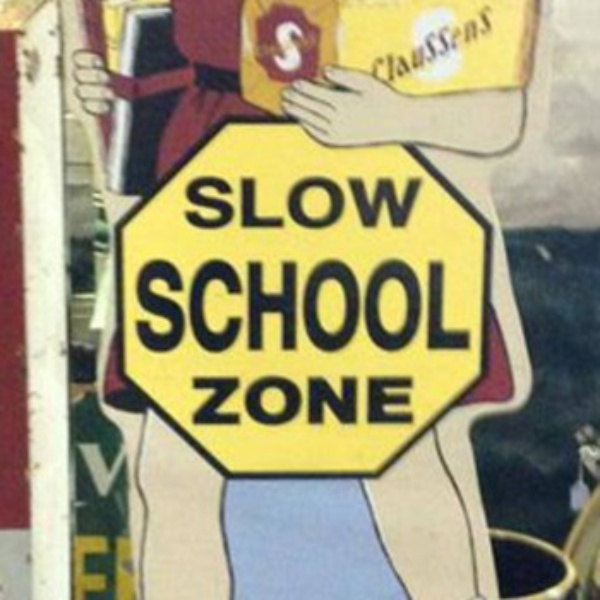text: (145, 256, 160, 352), (161, 256, 176, 352), (177, 256, 192, 352), (193, 256, 208, 352), (209, 256, 224, 352), (225, 256, 240, 352), (241, 256, 256, 352), (257, 256, 272, 352), (273, 256, 288, 352), (289, 256, 304, 352), (305, 256, 320, 352), (321, 256, 336, 352), (337, 256, 352, 352), (353, 256, 368, 352), (369, 256, 384, 352), (385, 256, 400, 352), (401, 256, 416, 352), (417, 256, 432, 352), (433, 256, 448, 352), (449, 256, 464, 352), (369, 7, 384, 95), (385, 7, 400, 95), (401, 7, 416, 95), (417, 7, 432, 95), (433, 7, 448, 95), (449, 7, 464, 95), (465, 7, 480, 95), (481, 7, 496, 95), (81, 530, 96, 599), (113, 436, 129, 499), (66, 530, 80, 599), (134, 256, 144, 352), (81, 436, 96, 499), (97, 436, 112, 499), (193, 172, 208, 230), (209, 172, 224, 230), (225, 172, 240, 230), (241, 172, 256, 230), (257, 172, 272, 230), (273, 172, 288, 230), (289, 172, 304, 230), (305, 172, 320, 230), (321, 172, 336, 230), (337, 172, 352, 230), (353, 172, 368, 230), (369, 172, 384, 230), (385, 172, 400, 230), (401, 172, 416, 230), (273, 16, 288, 74), (289, 16, 304, 74), (97, 530, 109, 599), (193, 371, 208, 426), (209, 371, 224, 426), (225, 371, 240, 426), (241, 371, 256, 426), (257, 371, 272, 426), (273, 371, 288, 426), (289, 371, 304, 426), (305, 371, 320, 426), (321, 371, 336, 426), (337, 371, 352, 426), (353, 371, 368, 426), (369, 371, 384, 426), (385, 371, 400, 426), (359, 7, 368, 95), (401, 371, 414, 426), (465, 256, 472, 352), (71, 436, 80, 499), (184, 172, 192, 230), (417, 172, 424, 230), (497, 7, 501, 95), (189, 371, 192, 426), (305, 16, 307, 74)
